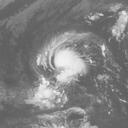cyclone: (35, 30, 105, 87)
